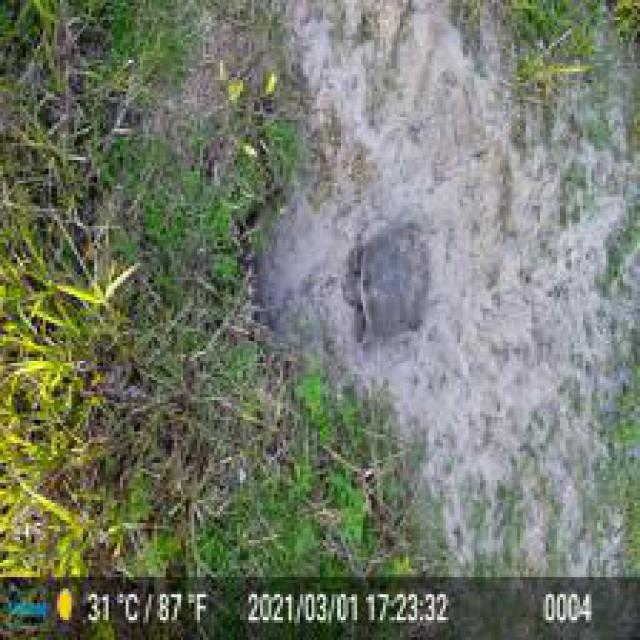tortoise: (340, 220, 429, 346)
